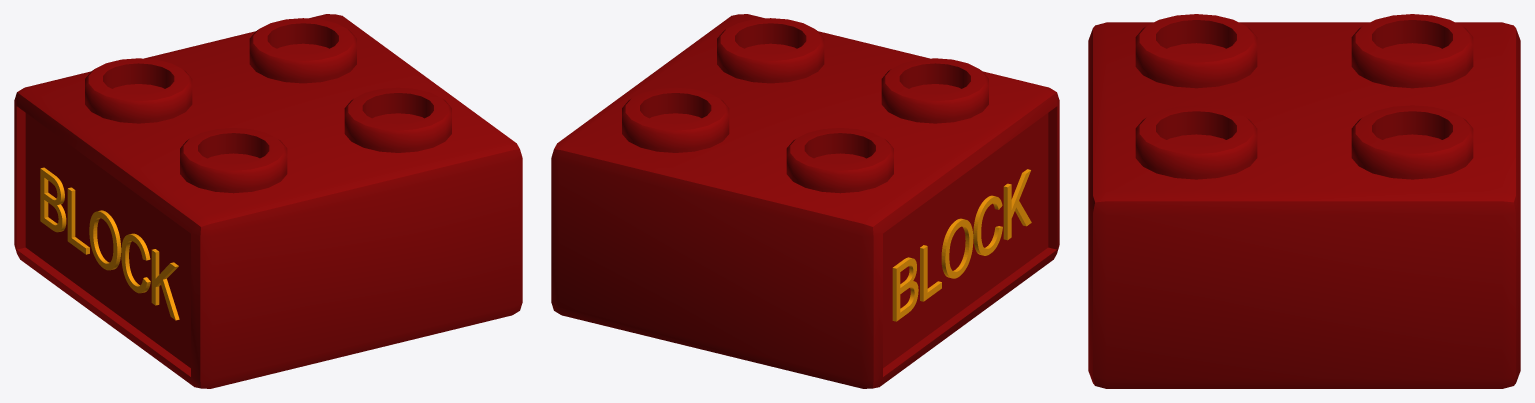
Rendered from Block.fbx.
3 renders of one model, left to right at view 1: azimuth 30°, elevation 25°; view 2: azimuth 150°, elevation 25°; view 3: azimuth 270°, elevation 25°, orthographic. The views are drawn at different scales.
Visible parts, largest first — view 1: Box001, Cylinder001, Text001; view 2: Box001, Cylinder001, Text001; view 3: Box001, Cylinder001.
Part boxes in pixels (x1,y1,x2,y2): Box001: (14, 14, 522, 388); Cylinder001: (85, 18, 451, 193); Text001: (40, 167, 179, 320); Box001: (551, 14, 1059, 388); Cylinder001: (622, 18, 988, 193); Text001: (892, 169, 1031, 321); Box001: (1088, 22, 1520, 388); Cylinder001: (1135, 14, 1473, 179).
Size of the model in its own units: 50 by 28.18 by 50.
